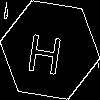H: (25, 25, 66, 75)
